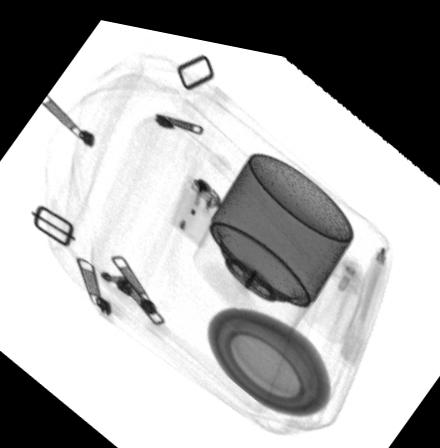Lighter: (168, 160, 225, 240)
Sprayer: (193, 143, 355, 328)
